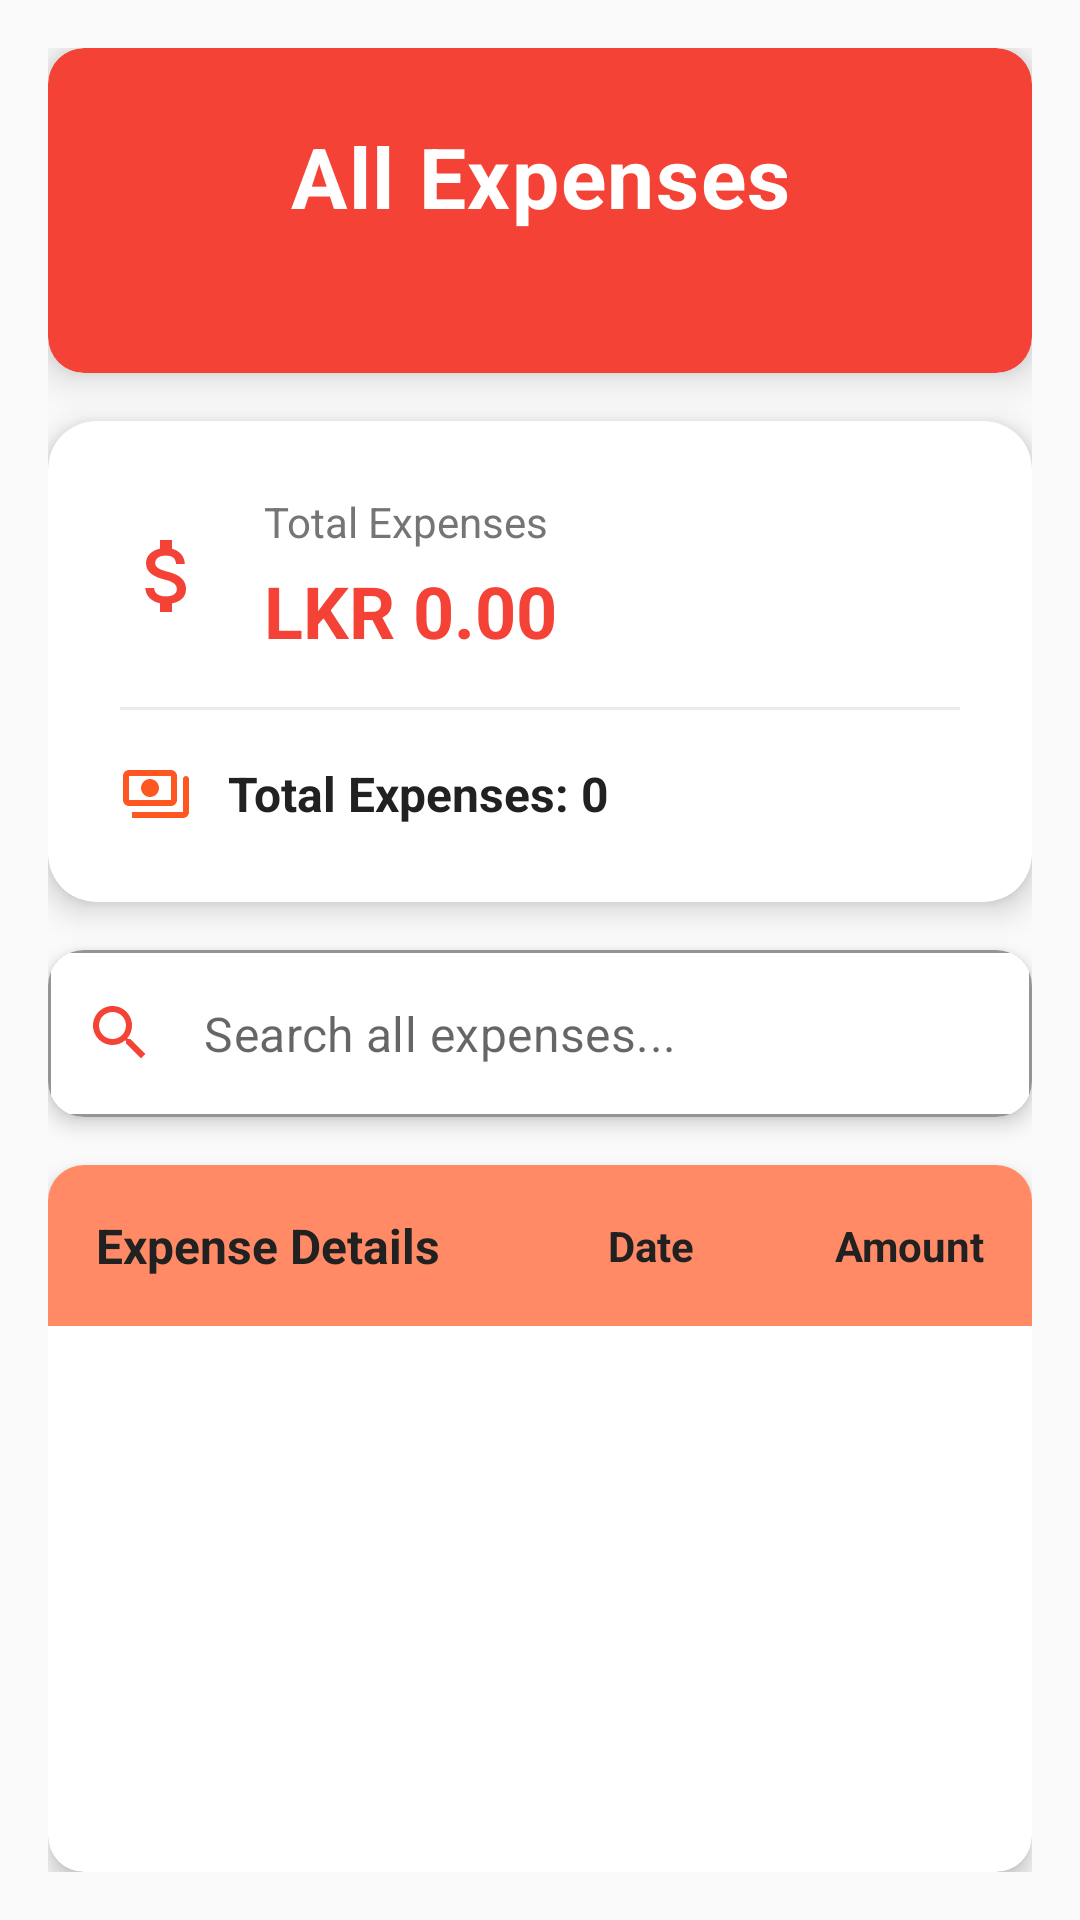

Icon click points for this 1080*1920 phone screenshot, format point (x, y):
transactions: point (156, 794)
